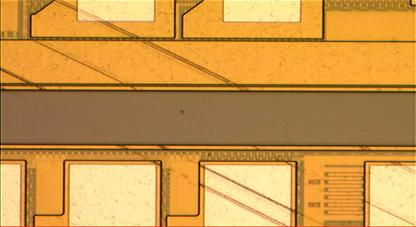SCRATCH: (1, 1, 416, 227)
